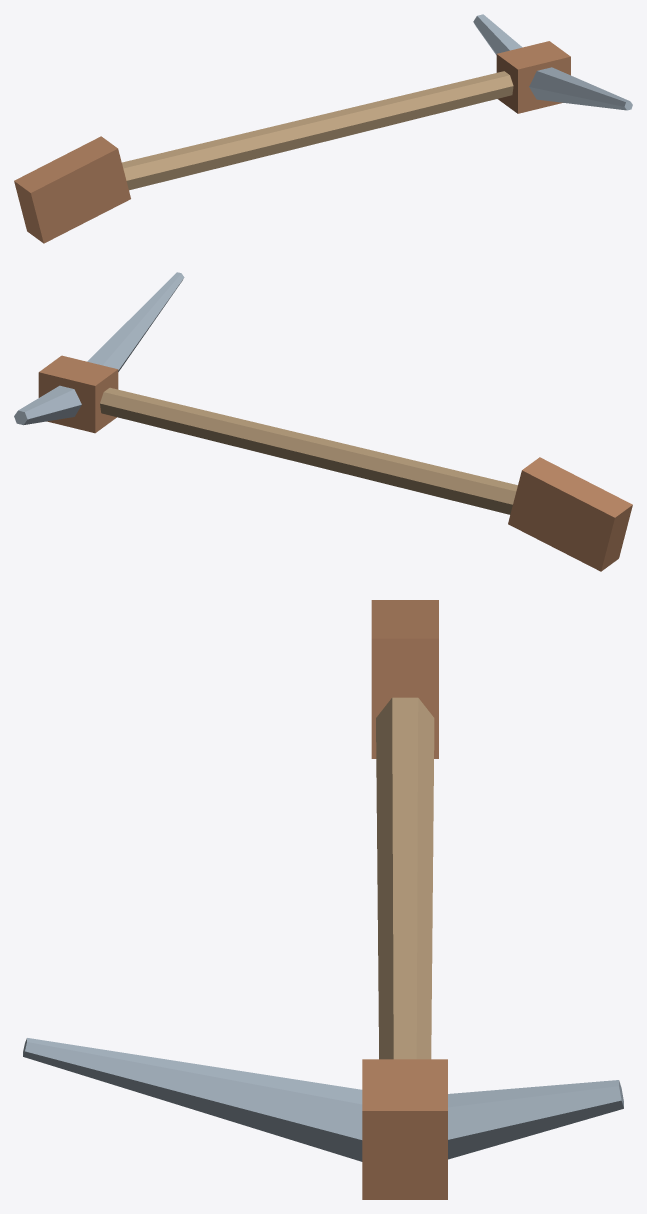
The model's file is wipe-day-survival-island-salvaged-pickaxe-6306f5e3__27483.glb.
The picture shows the model from 3 angles, top to bottom: view 1: azimuth 30°, elevation 25°; view 2: azimuth 150°, elevation 25°; view 3: azimuth 270°, elevation 25°; orthographic projection. The views are drawn at different scales.
Parts seen in each view (by area): view 1: salvaged-pickaxe; view 2: salvaged-pickaxe; view 3: salvaged-pickaxe.
Boxes of the visible parts, x1,y1,x2,y2 form: salvaged-pickaxe: (14, 14, 632, 243); salvaged-pickaxe: (14, 272, 632, 571); salvaged-pickaxe: (23, 600, 623, 1199).
Size of the model in its own units: 1.01 by 0.1504 by 0.4913.
